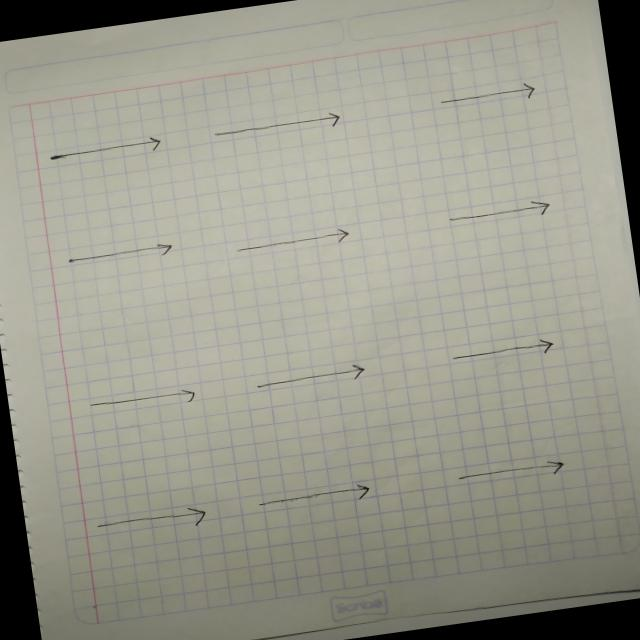arrow_line_up: (513, 451, 574, 562), (314, 468, 382, 564), (303, 346, 358, 456), (488, 206, 546, 304), (90, 250, 146, 344), (256, 82, 314, 170), (268, 230, 328, 313), (92, 392, 152, 472), (484, 56, 534, 146), (110, 516, 161, 602), (508, 334, 553, 426), (76, 104, 120, 172)
